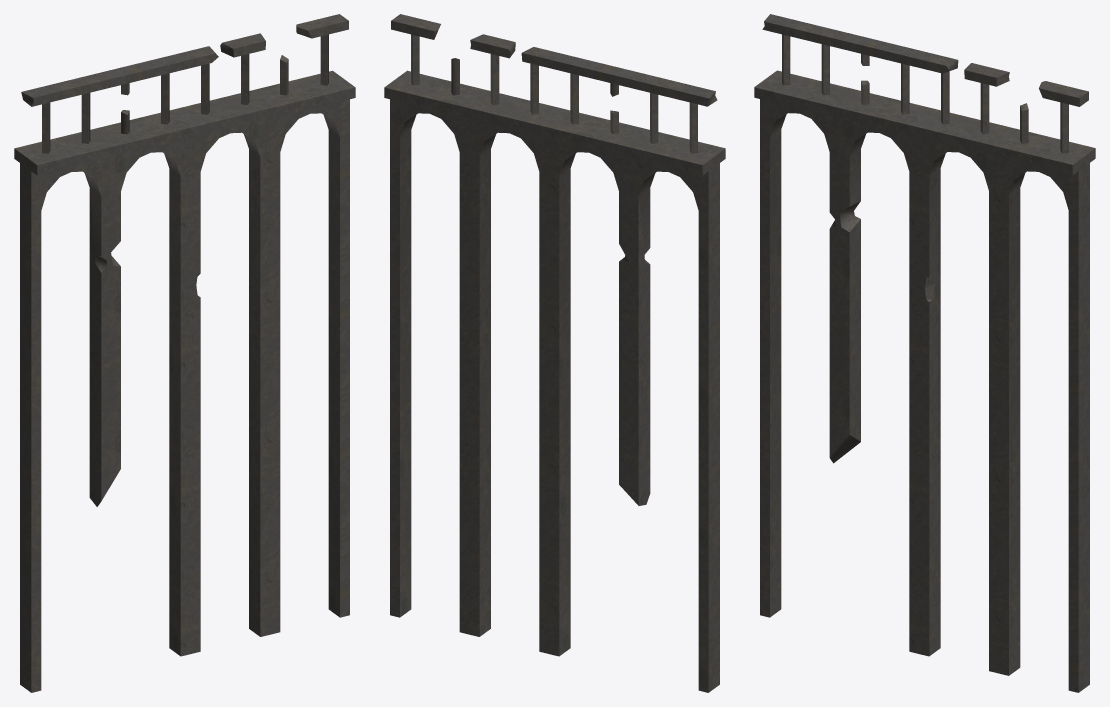
Rendered from SM_Qiao03.glb.
3 views of the same model, side by side, from view 1: azimuth 30°, elevation 25°; view 2: azimuth 150°, elevation 25°; view 3: azimuth 330°, elevation 25° (orthographic).
Parts seen in each view (by area): view 1: SM_Qiao03.015; view 2: SM_Qiao03.015; view 3: SM_Qiao03.015.
Part boxes in pixels (x1,y1,x2,y2): SM_Qiao03.015: (14,14,355,692); SM_Qiao03.015: (384,14,725,692); SM_Qiao03.015: (754,14,1095,692).
Size of the model in its own units: 3848 by 6855 by 481.
Materials: 1 (1 with a texture image).
